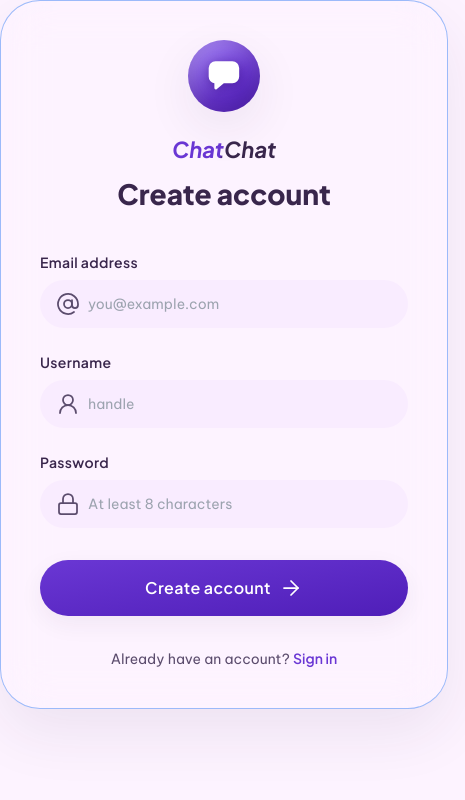
<RegisterPage /> (OWASP V3.1.1 enumeration-safe) › shows a generic error on non-2xx (does NOT leak email-taken copy)
Type "new@example.com" into the field labelled "Email address" at point(224, 304), box x1=40 y1=280 x2=408 y2=328
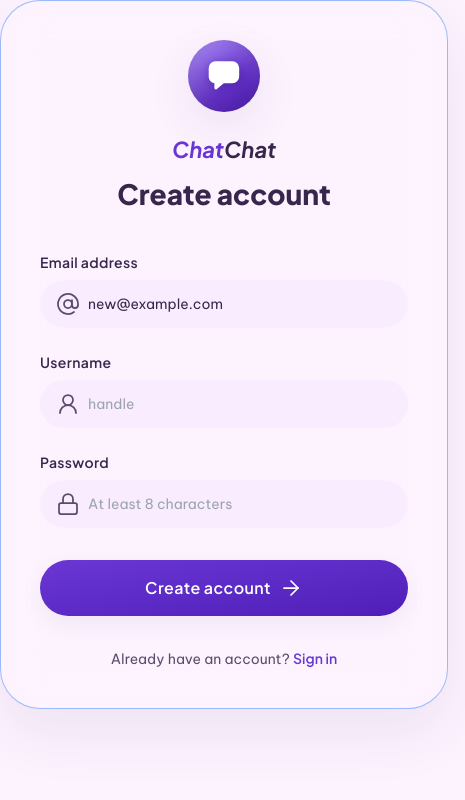
Type "newuser" into the field labelled "Username" at point(224, 404), box x1=40 y1=380 x2=408 y2=428
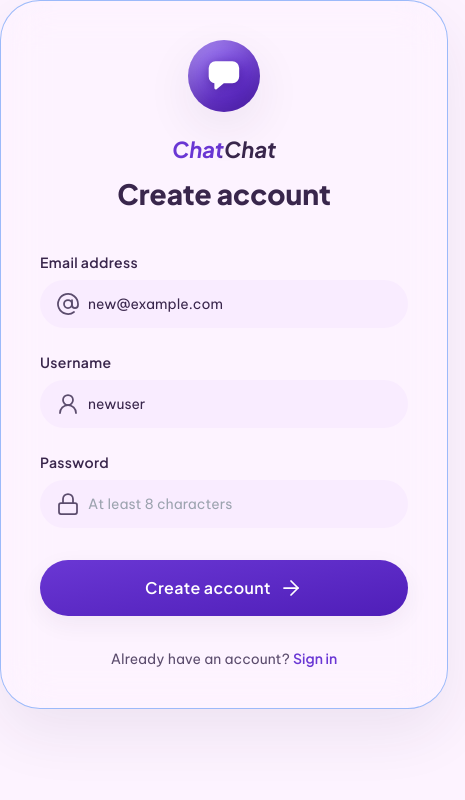
Type "Secret123!" into the password field labelled "Password" at point(224, 504), box x1=40 y1=480 x2=408 y2=528
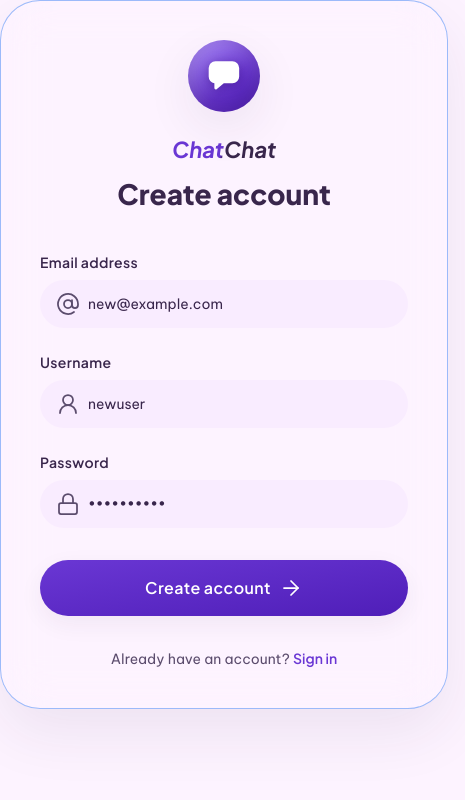
Click the button "Create account" at point(224, 588), box x1=40 y1=560 x2=408 y2=616
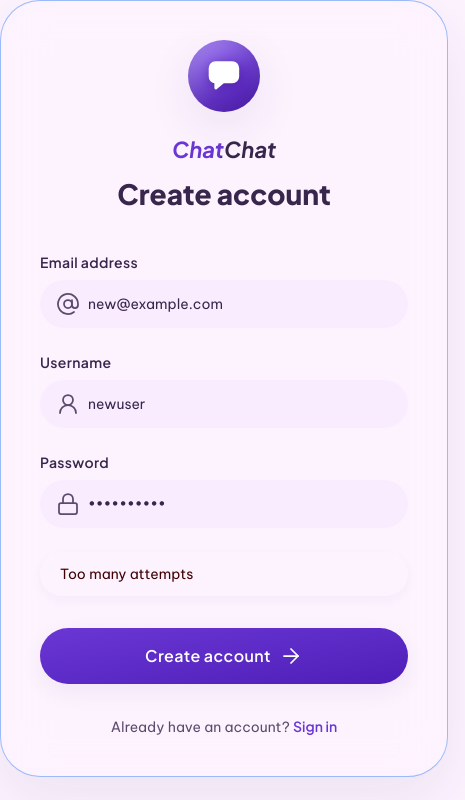
Expected: the message "Too many attempts" is shown, x1=40 y1=552 x2=408 y2=596
